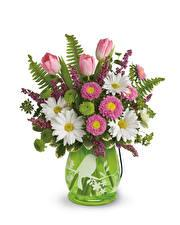chamomile: (56, 115, 82, 143), (111, 117, 137, 139), (43, 102, 71, 118), (104, 77, 129, 92)
